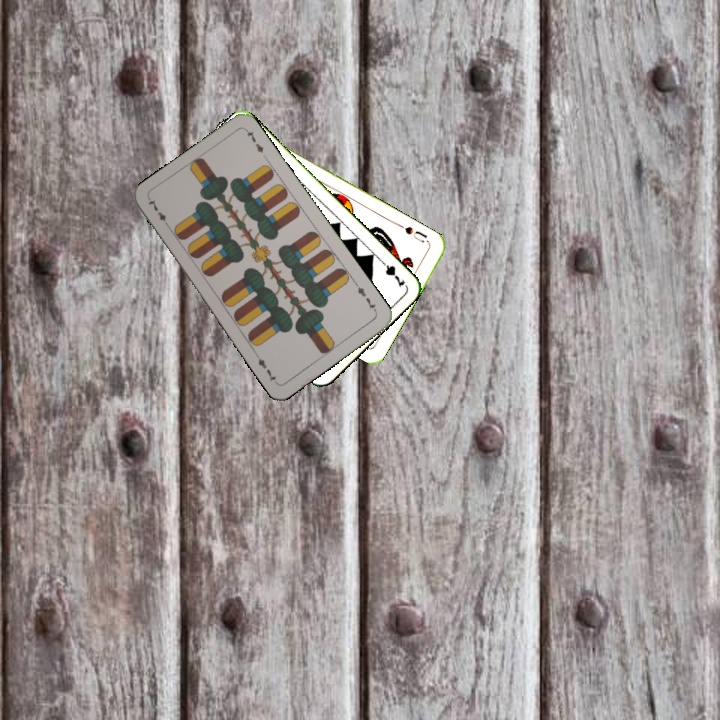E7: (144, 195, 173, 231), (351, 279, 379, 315)
G7: (375, 255, 408, 290)
SU: (400, 222, 430, 246)
